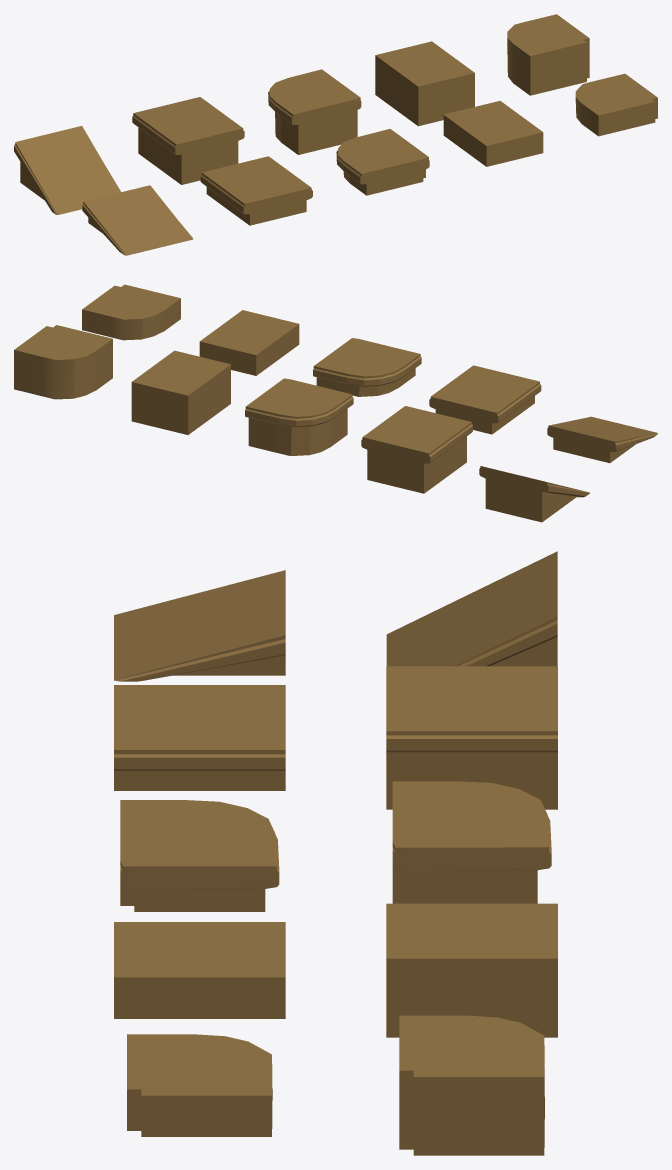
File: Interior_Ramp_Modular_Meshes_01.fbx
The picture shows the model from 3 angles, top to bottom: view 1: azimuth 30°, elevation 25°; view 2: azimuth 150°, elevation 25°; view 3: azimuth 270°, elevation 25°; orthographic projection. The views are drawn at different scales.
Visible parts, largest first — view 1: Interior_Platform_High, Interior_Platform_Support_High, Interior_Ramp_High, Interior_Corner_High, Interior_Corner_Support_High, Interior_Platform_Low, Interior_Ramp_Low, Interior_Platform_Support_Low, Interior_Corner_Low, Interior_Corner_Support_Low; view 2: Interior_Platform_High, Interior_Corner_High, Interior_Platform_Support_High, Interior_Corner_Support_High, Interior_Platform_Low, Interior_Corner_Low, Interior_Platform_Support_Low, Interior_Corner_Support_Low, Interior_Ramp_High, Interior_Ramp_Low; view 3: Interior_Platform_High, Interior_Platform_Support_High, Interior_Corner_Support_High, Interior_Corner_High, Interior_Platform_Low, Interior_Corner_Low, Interior_Platform_Support_Low, Interior_Ramp_Low, Interior_Corner_Support_Low, Interior_Ramp_High.
Part boxes in pixels (<box>): Interior_Platform_High: <box>132,97,244,184</box>; Interior_Platform_Support_High: <box>375,41,474,126</box>; Interior_Ramp_High: <box>14,126,120,214</box>; Interior_Corner_High: <box>268,69,361,154</box>; Interior_Corner_Support_High: <box>507,14,589,95</box>; Interior_Platform_Low: <box>200,156,312,225</box>; Interior_Ramp_Low: <box>82,185,193,255</box>; Interior_Platform_Support_Low: <box>443,101,543,166</box>; Interior_Corner_Low: <box>336,129,429,195</box>; Interior_Corner_Support_Low: <box>575,73,657,136</box>; Interior_Platform_High: <box>361,406,472,493</box>; Interior_Corner_High: <box>245,378,353,455</box>; Interior_Platform_Support_High: <box>131,350,230,434</box>; Interior_Corner_Support_High: <box>14,325,112,399</box>; Interior_Platform_Low: <box>429,365,541,434</box>; Interior_Corner_Low: <box>313,338,421,396</box>; Interior_Platform_Support_Low: <box>199,310,299,375</box>; Interior_Corner_Support_Low: <box>82,284,180,340</box>; Interior_Ramp_High: <box>479,466,589,522</box>; Interior_Ramp_Low: <box>547,416,657,463</box>; Interior_Platform_High: <box>386,666,557,809</box>; Interior_Platform_Support_High: <box>386,903,557,1037</box>; Interior_Corner_Support_High: <box>399,1015,544,1155</box>; Interior_Corner_High: <box>392,781,551,903</box>; Interior_Platform_Low: <box>114,685,285,790</box>; Interior_Corner_Low: <box>120,800,279,911</box>; Interior_Platform_Support_Low: <box>114,922,285,1018</box>; Interior_Ramp_Low: <box>114,570,285,681</box>; Interior_Corner_Support_Low: <box>127,1034,272,1136</box>; Interior_Ramp_High: <box>386,551,557,666</box>.
Bounding box in the file's own units: 152 × 11.23 × 54.34.
